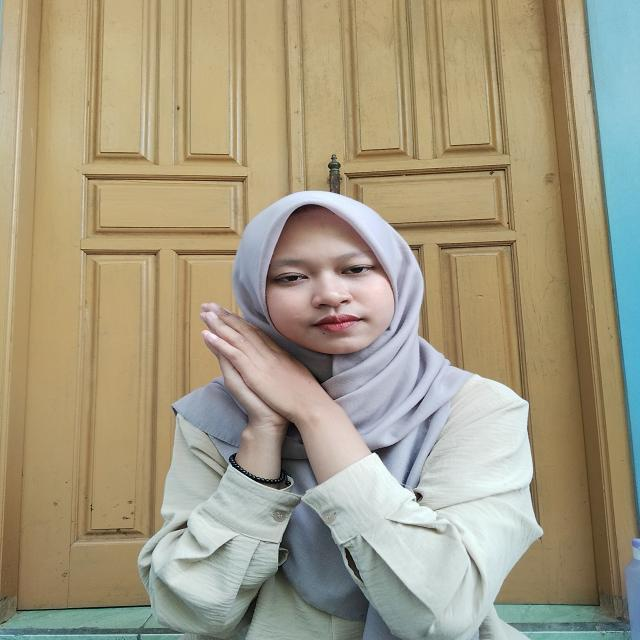tidur: (184, 302, 354, 464)
